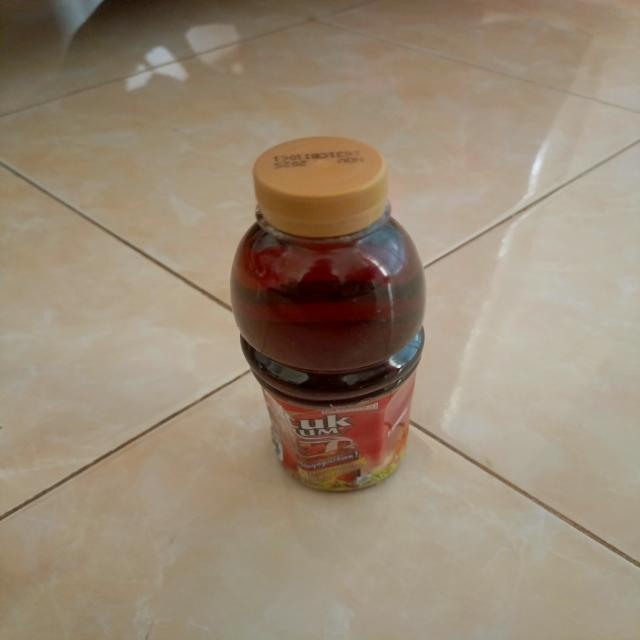teh-pucuk: (228, 133, 426, 493)
